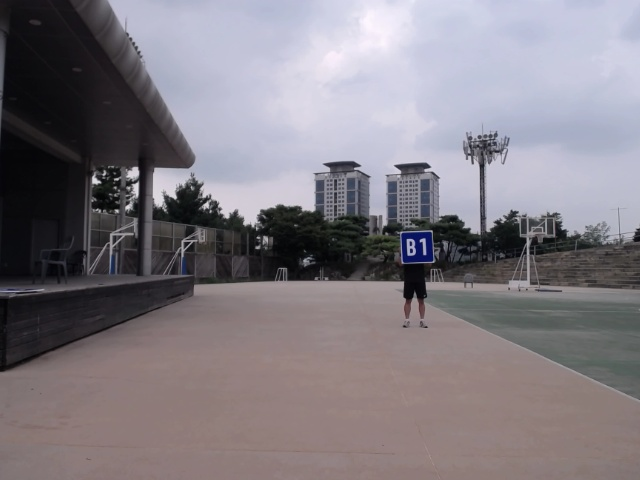delivery_b1: (400, 231, 434, 264)
